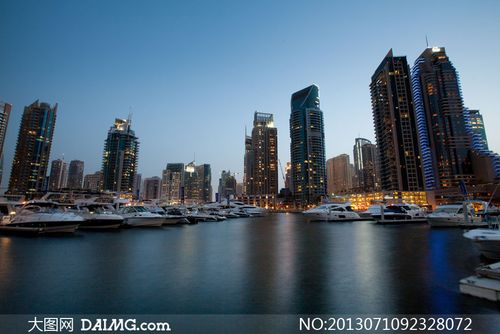buildings: (395, 40, 484, 209), (367, 45, 436, 213), (283, 77, 333, 213), (9, 89, 63, 214), (98, 108, 144, 213), (241, 104, 280, 211), (324, 147, 357, 205)
sea_river: (24, 230, 460, 313)
